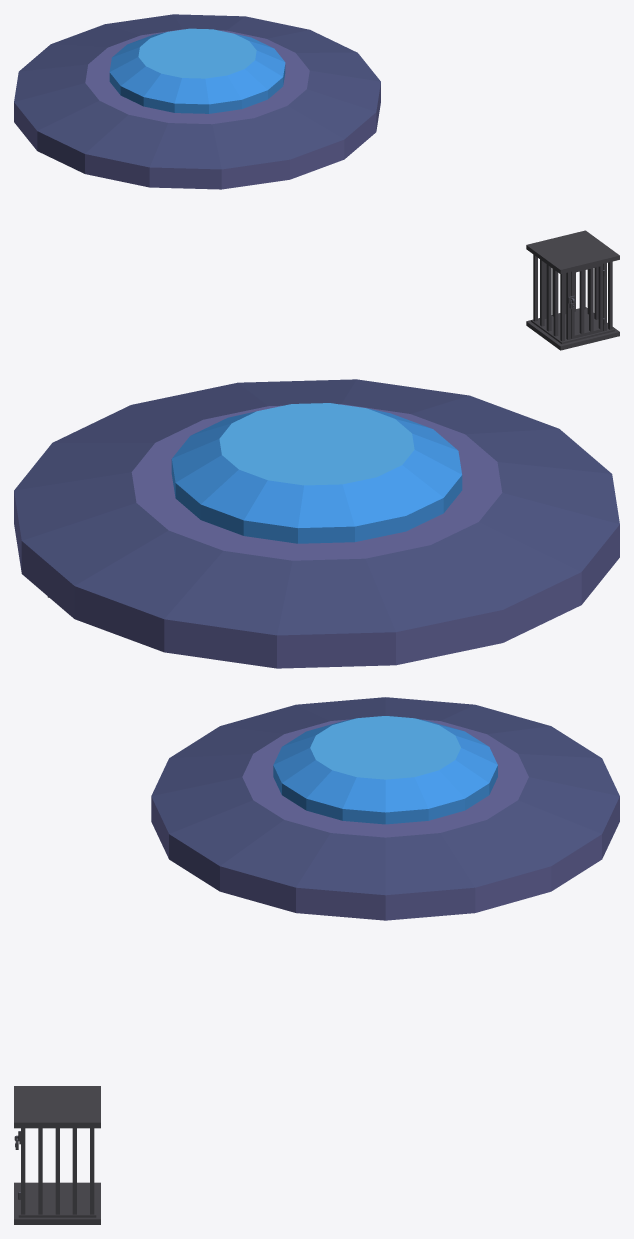
The model's file is UFO.fbx.
The picture shows the model from 3 angles, top to bottom: view 1: azimuth 30°, elevation 25°; view 2: azimuth 150°, elevation 25°; view 3: azimuth 270°, elevation 25°; orthographic projection. The views are drawn at different scales.
Parts seen in each view (by area): view 1: SM_DL_UFO, SM_DL_Kamera, SM_DL_Kamera_dverb; view 2: SM_DL_UFO; view 3: SM_DL_UFO, SM_DL_Kamera.
Boxes of the visible parts, left/top/right/bottom form: SM_DL_UFO: left=14, top=14, right=380, bottom=189; SM_DL_Kamera: left=526, top=230, right=619, bottom=350; SM_DL_Kamera_dverb: left=568, top=264, right=605, bottom=338; SM_DL_UFO: left=14, top=379, right=619, bottom=668; SM_DL_UFO: left=151, top=697, right=619, bottom=920; SM_DL_Kamera: left=14, top=1086, right=100, bottom=1224.
Bounding box in the file's own units: 13.86 × 7.36 × 13.18.
